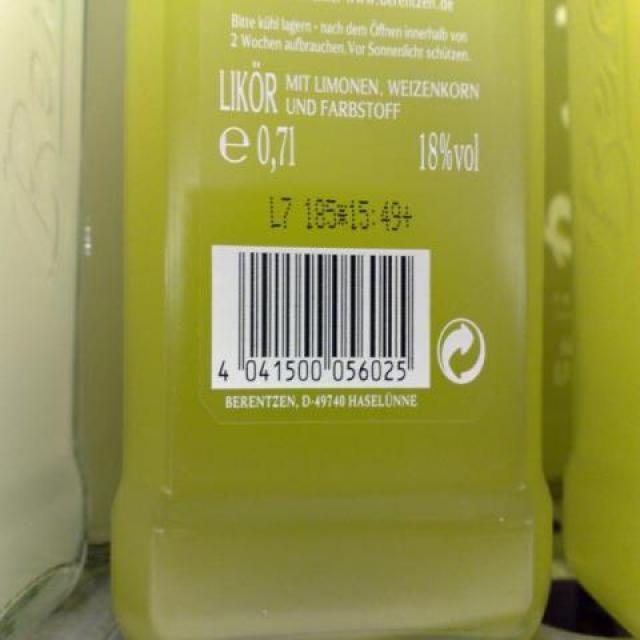Barcode: (210, 246, 433, 390)
